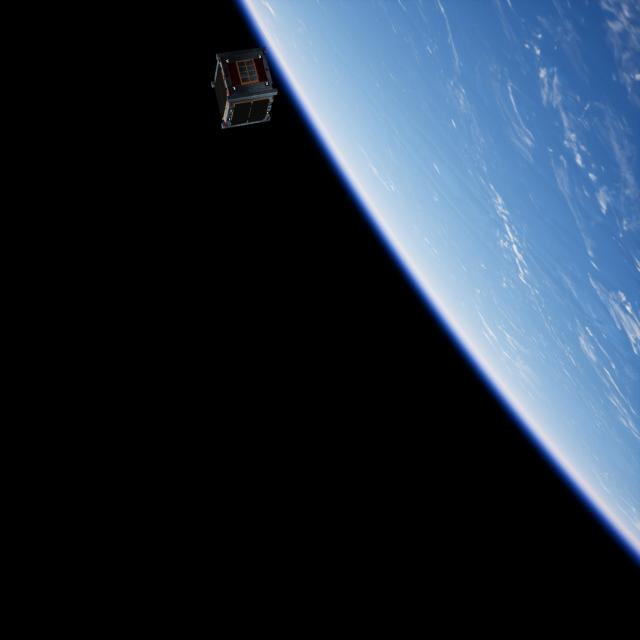satellite: (206, 50, 282, 133)
